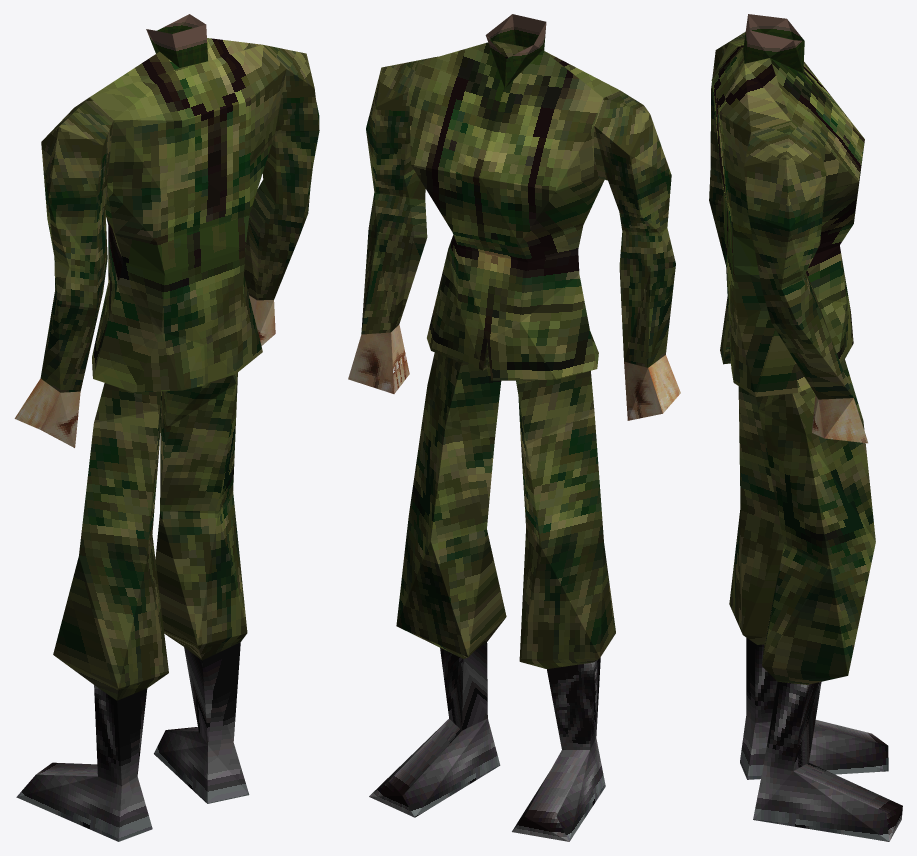
Rendered from primary_417.glb.
3 renders of one model, left to right at view 1: azimuth 30°, elevation 25°; view 2: azimuth 150°, elevation 25°; view 3: azimuth 270°, elevation 25°, orthographic. The views are drawn at different scales.
Visible parts, largest first — view 1: Object; view 2: Object; view 3: Object.
Boxes of the visible parts, x1,y1,x2,y2 form: Object: (14,14,319,841); Object: (348,14,680,841); Object: (709,14,902,841).
Size of the model in its own units: 0.7433 by 1.83 by 0.4126.
Materials: 85 (85 with a texture image).
